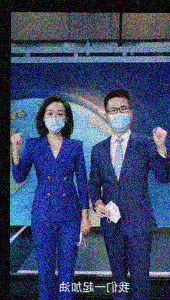with_mask: (106, 105, 132, 132), (43, 108, 65, 135)
